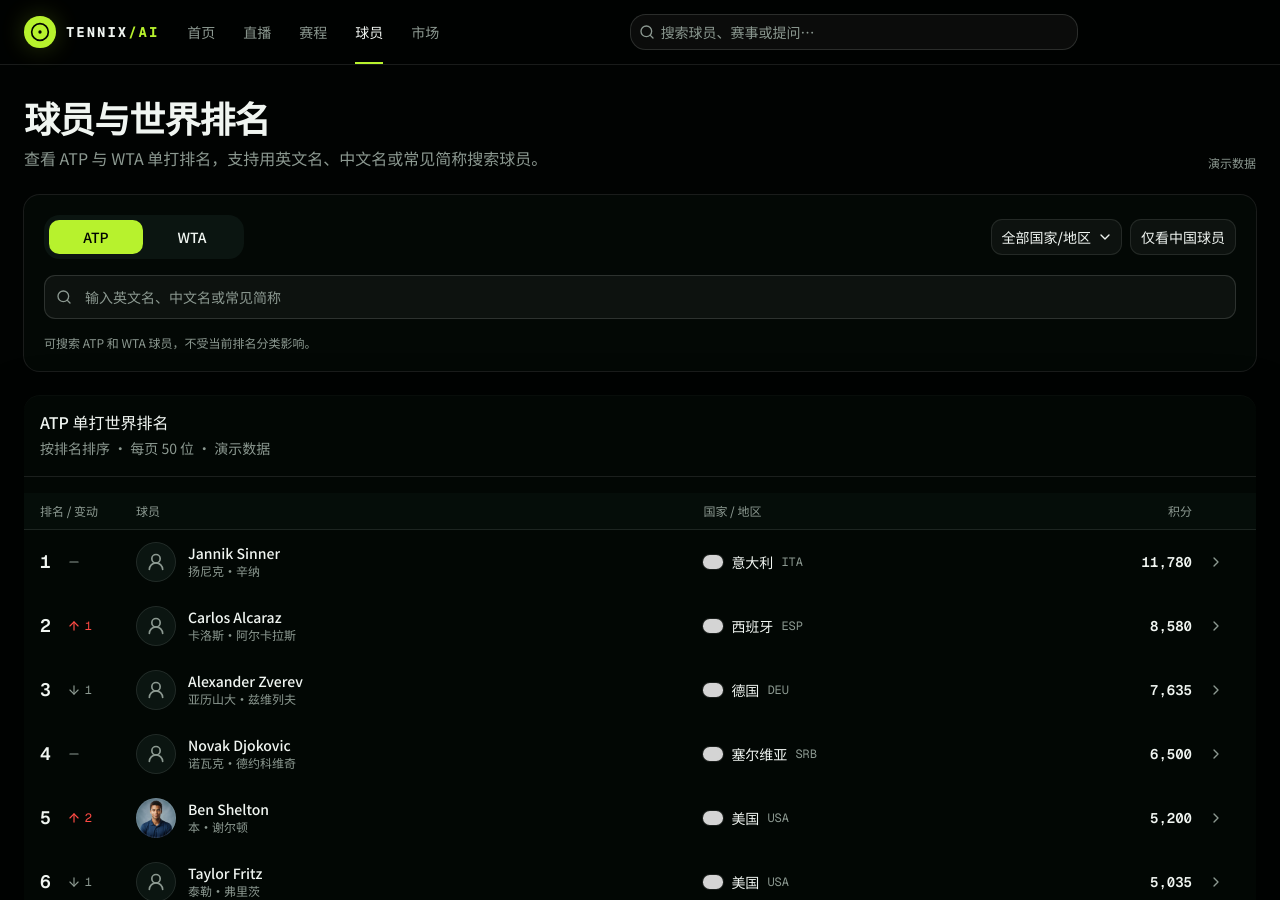
Test: PlayersPage search mode › finds Qinwen Zheng from the default ATP tab because search covers the full directory
This screenshot has width=1280, height=900.
Type "郑钦文" into the field with placeholder "输入英文名、中文名或常见简称" at point(640, 297), box top-left (44, 275), bottom-right (1236, 319)
Then press Enter
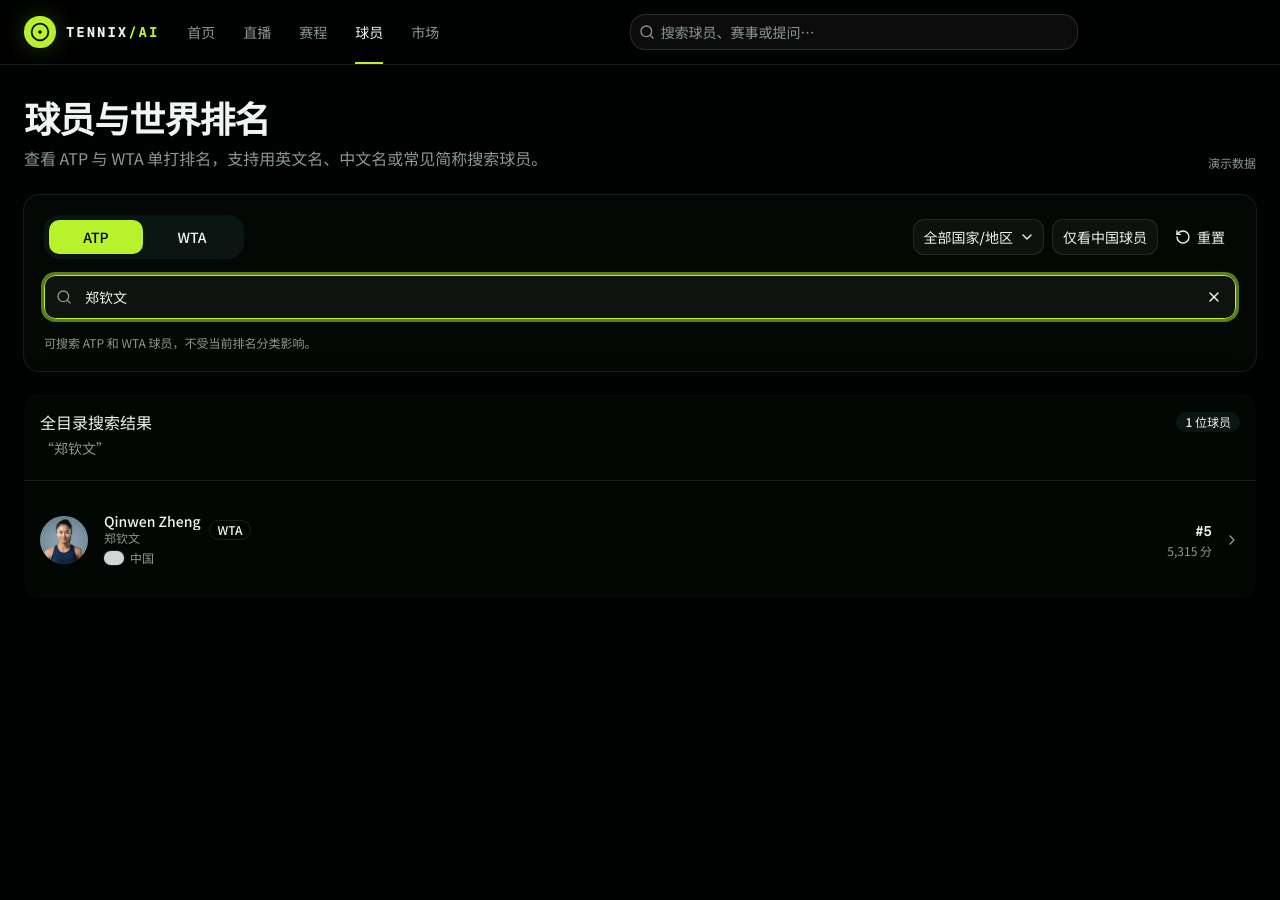
Expected: the heading "全目录搜索结果" is shown, top-left (40, 410), bottom-right (152, 434)
Expected: the icon "WTA" is shown, top-left (208, 520), bottom-right (251, 540)
Expected: the text "Qinwen Zheng" is shown, top-left (104, 511), bottom-right (200, 531)
